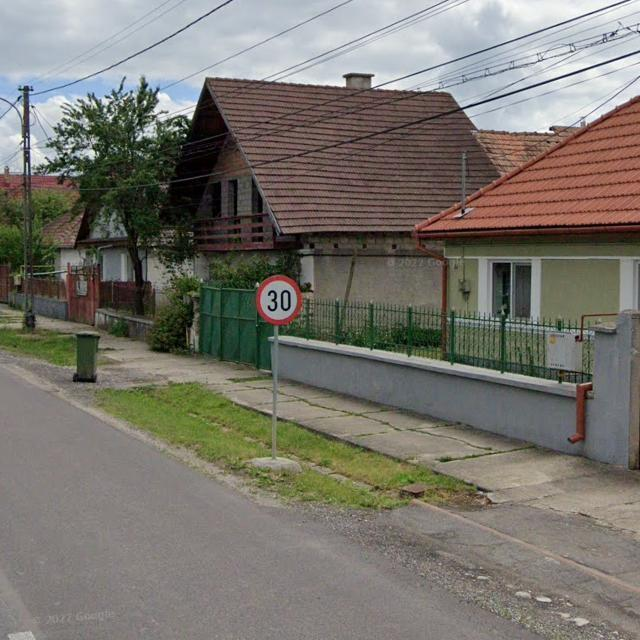forb_speed_over_30: (260, 275, 301, 322)
